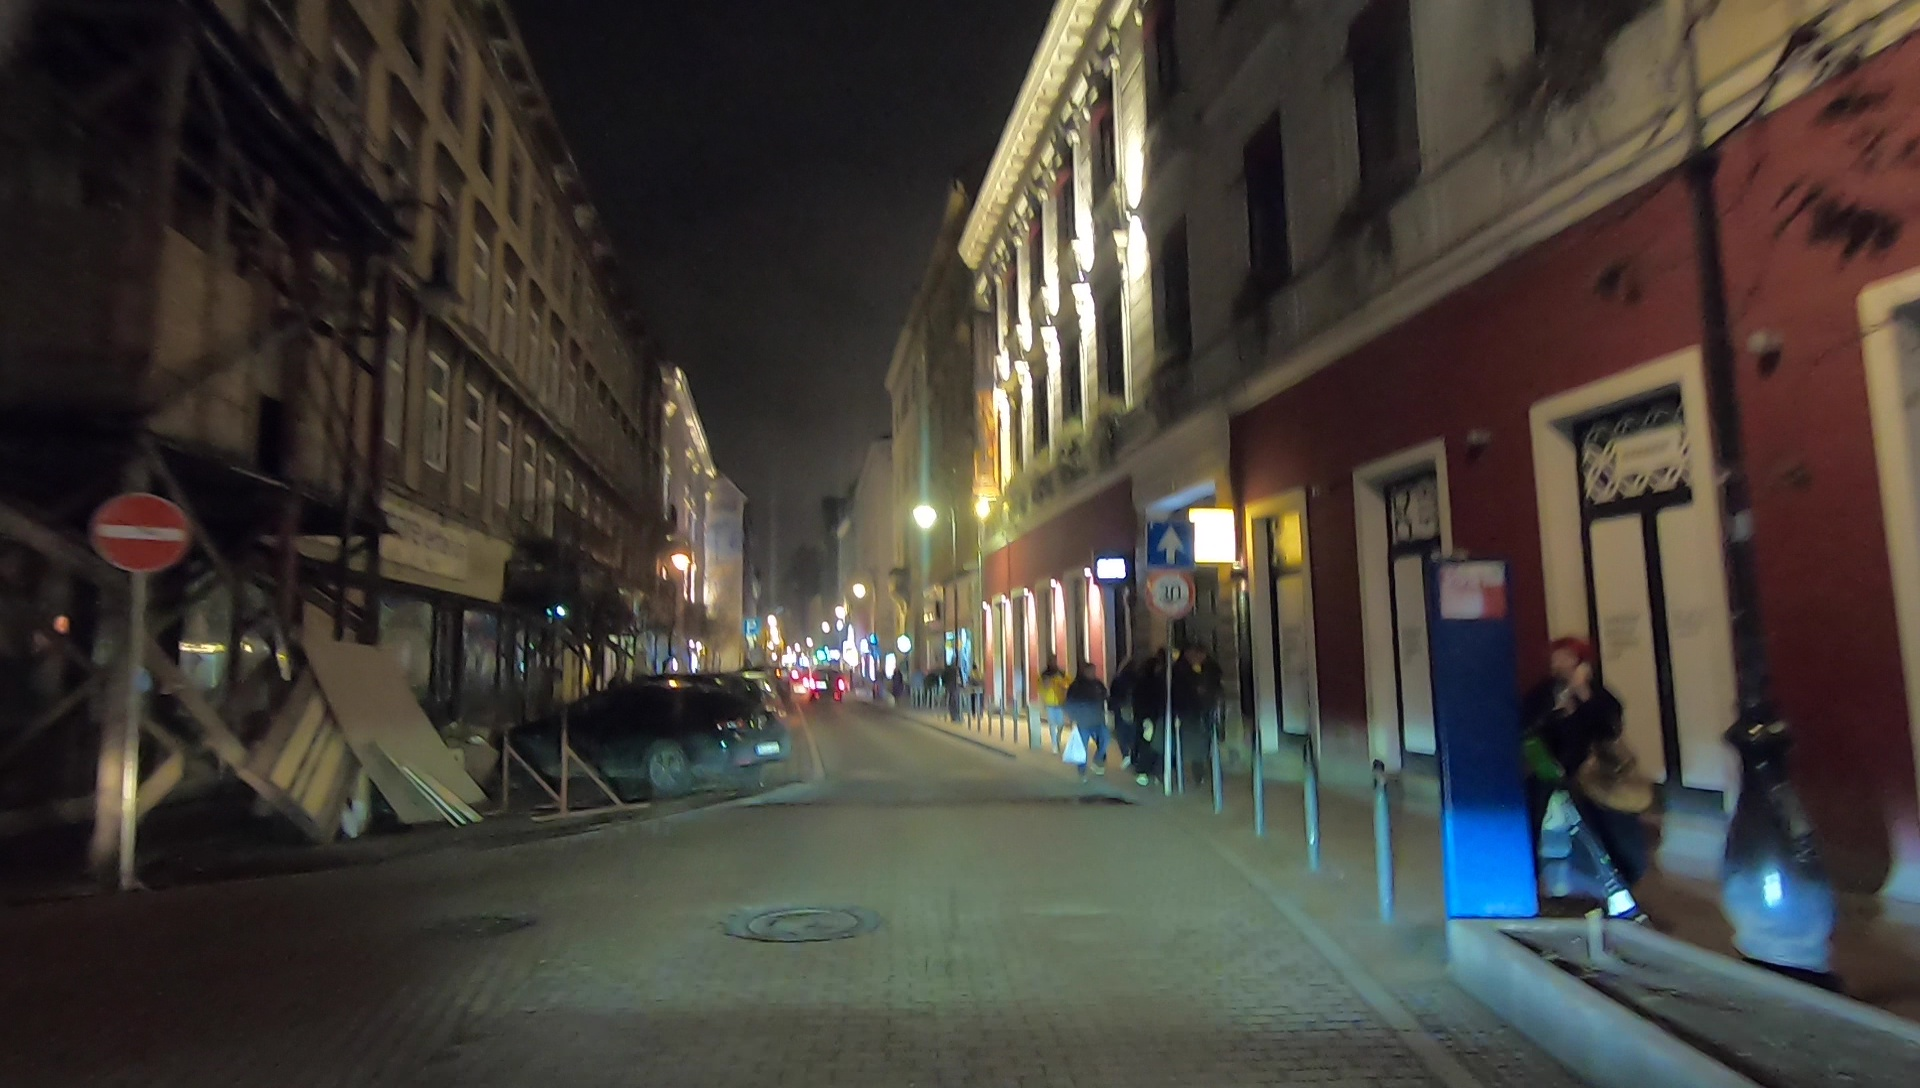person: (1526, 628, 1656, 930), (1179, 649, 1223, 781), (1072, 659, 1109, 776), (1113, 651, 1141, 762), (1043, 654, 1068, 753)
